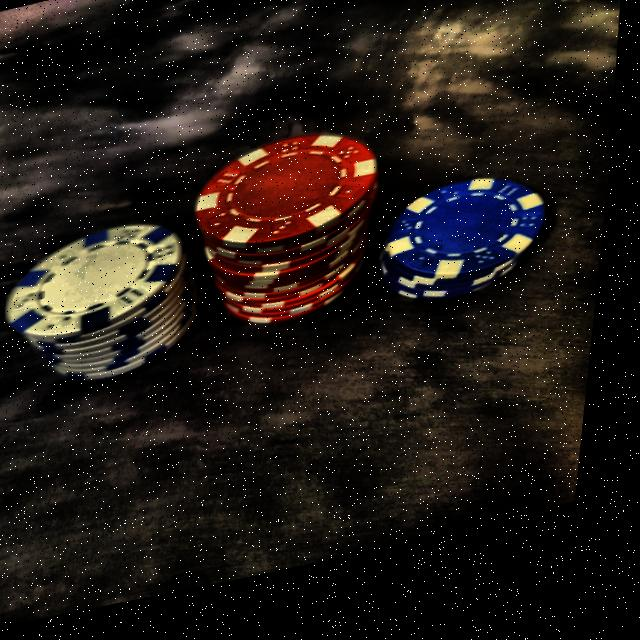Chip: (174, 101, 403, 384), (0, 188, 232, 429), (371, 162, 565, 343)
